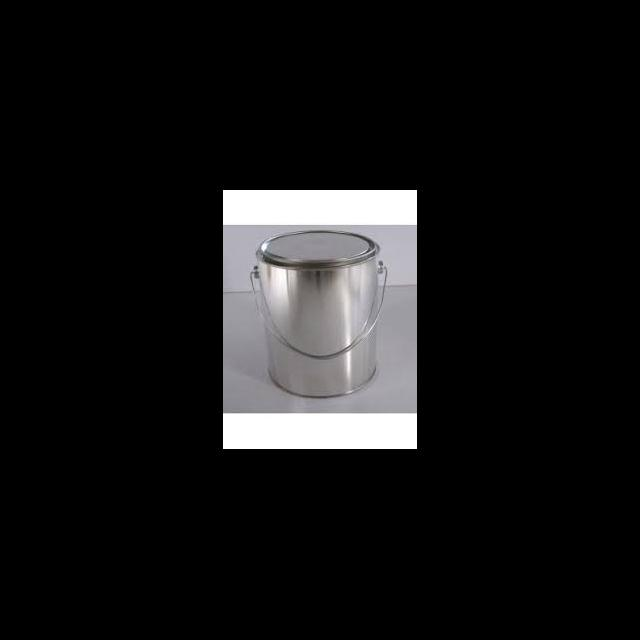metal: (249, 230, 386, 400)
